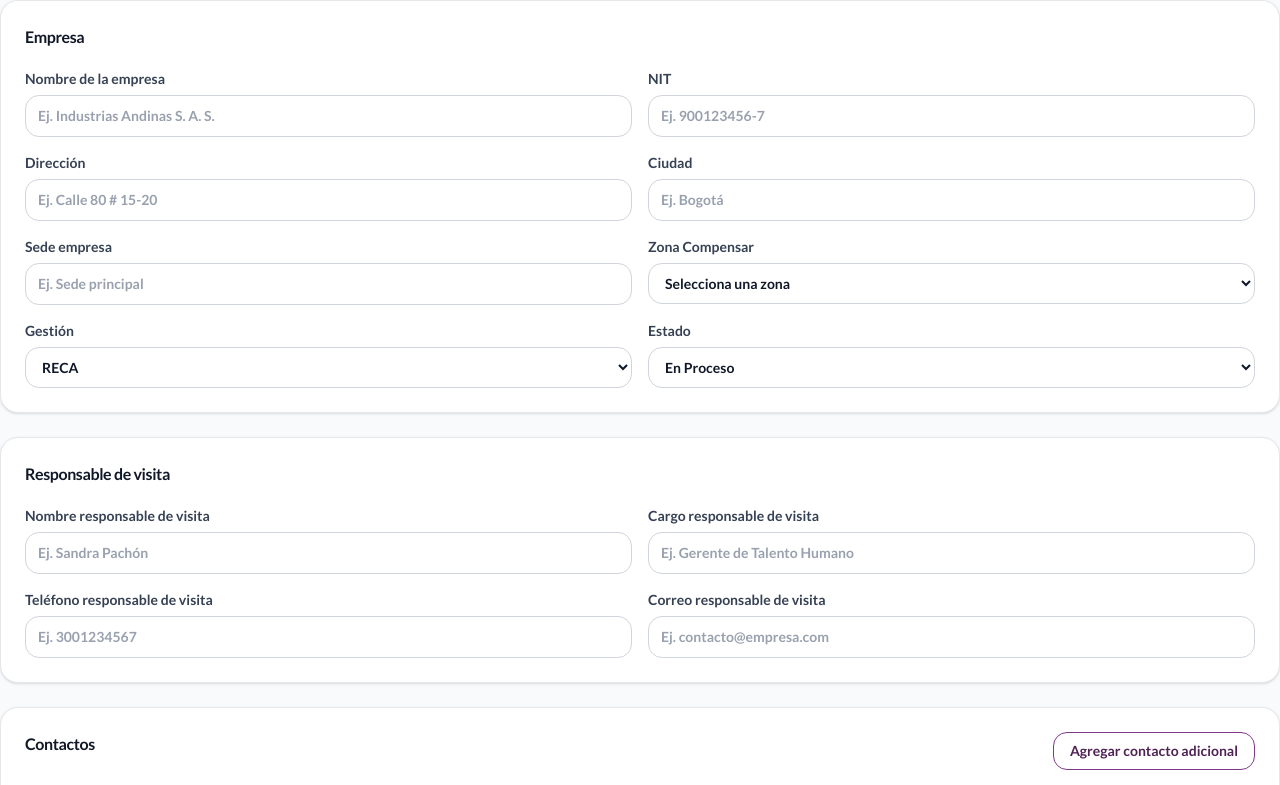
Scenario: EmpresaForm › removes an additional contact created by mistake
Click the button "Agregar contacto adicional" at (1154, 751), box [1053,732,1255,770]
(page scrolled)
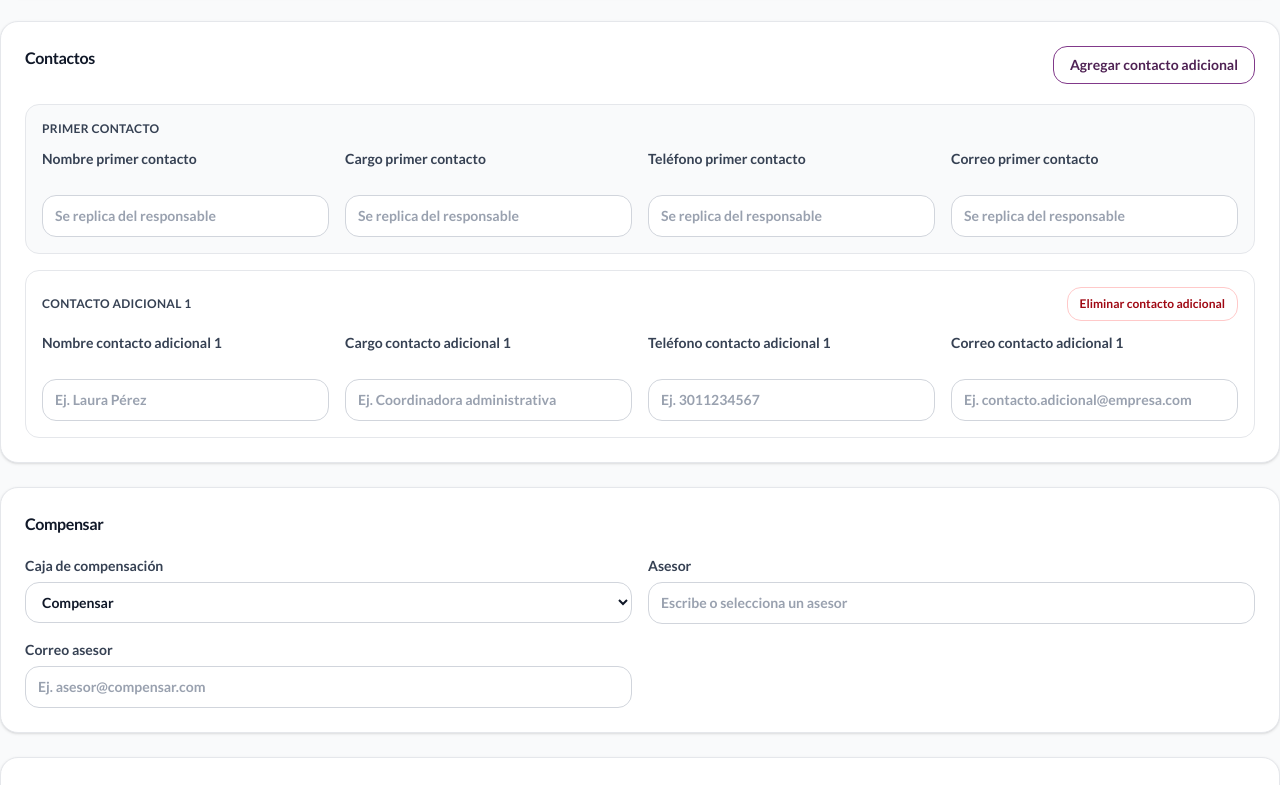
Type "Laura Perez" into the field labelled "Nombre contacto adicional 1" at (186, 400), box [42,379,329,421]
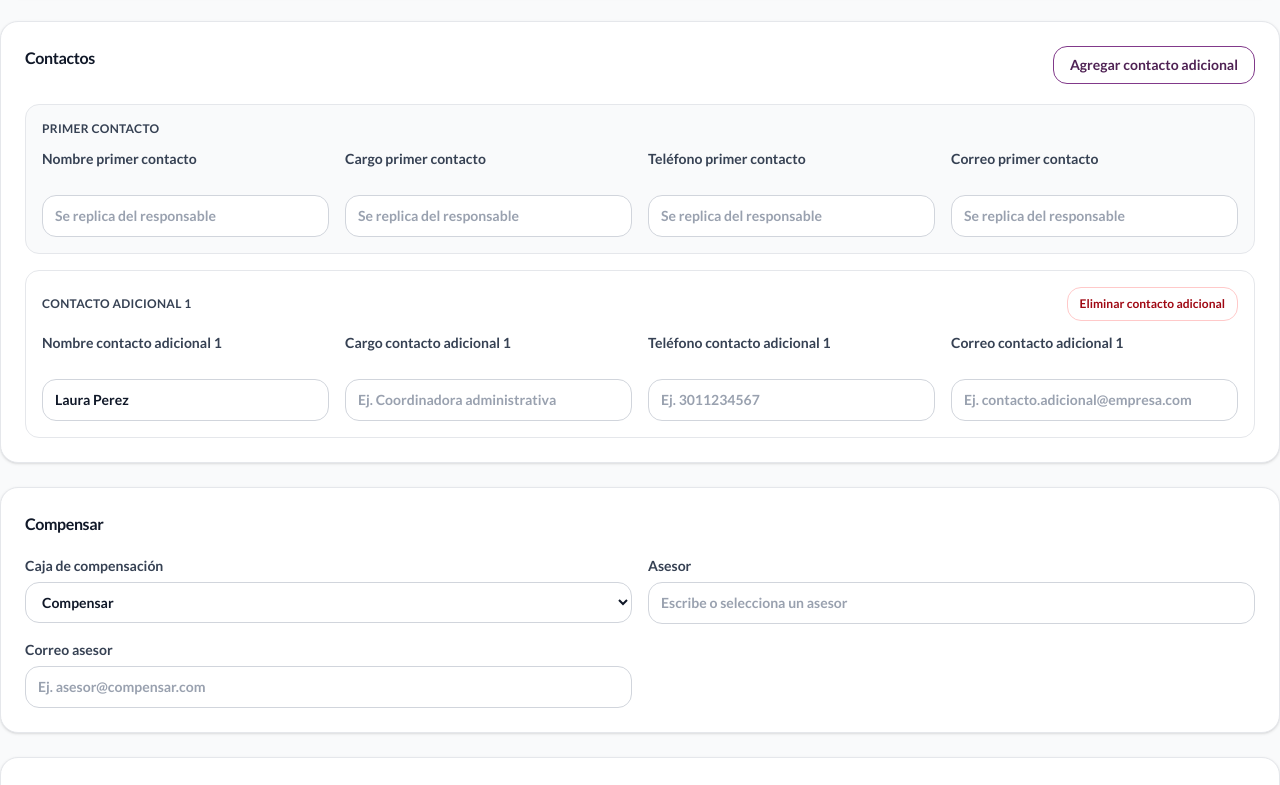
Click the button with aria-label "Eliminar contacto adicional 1" at (1152, 304), box [1067,287,1238,321]
(page scrolled)
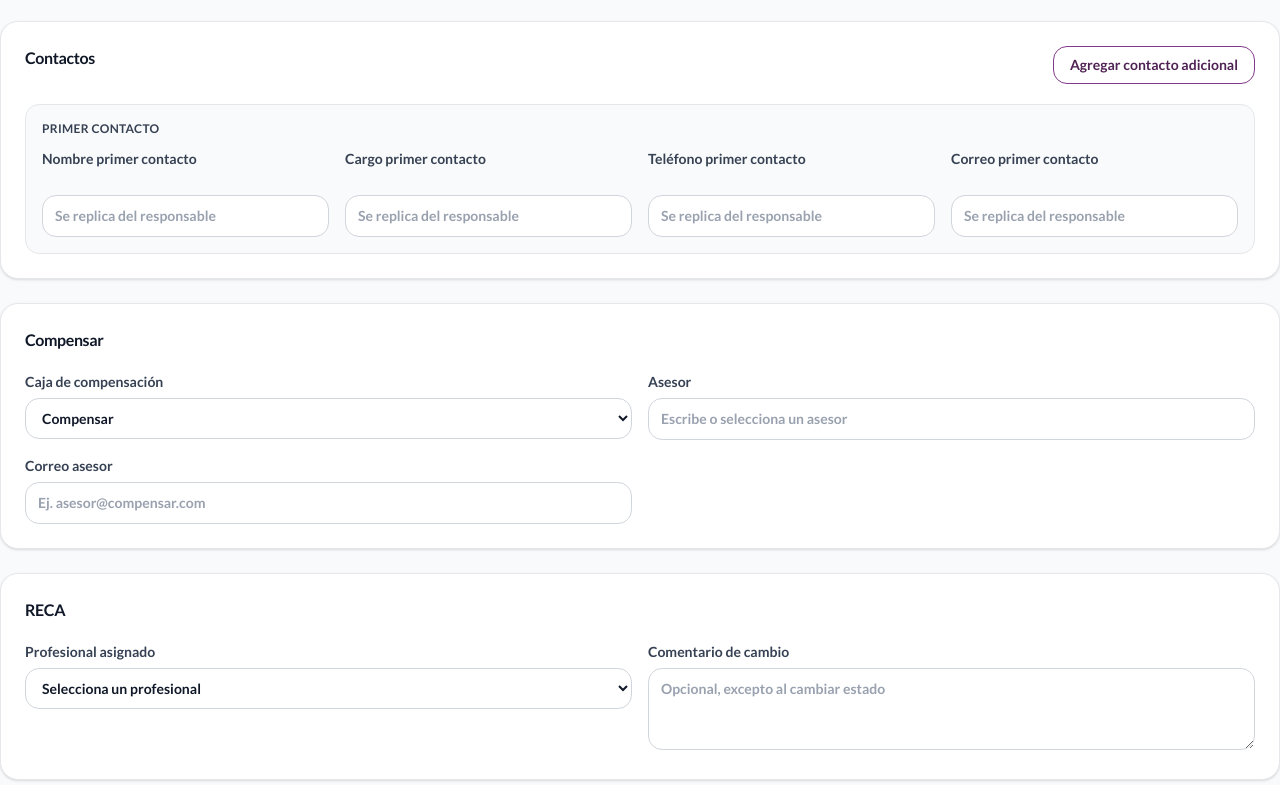
expect the text labelled "Nombre contacto adicional 1" is gone: met
